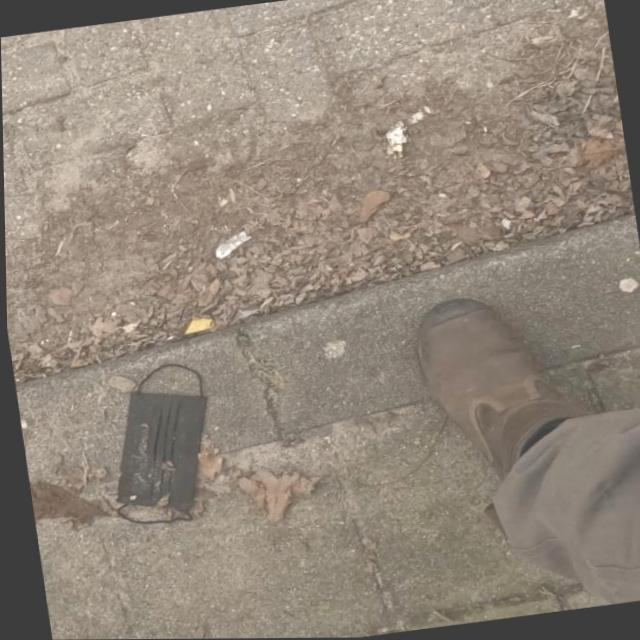Mask: (89, 353, 222, 534)
